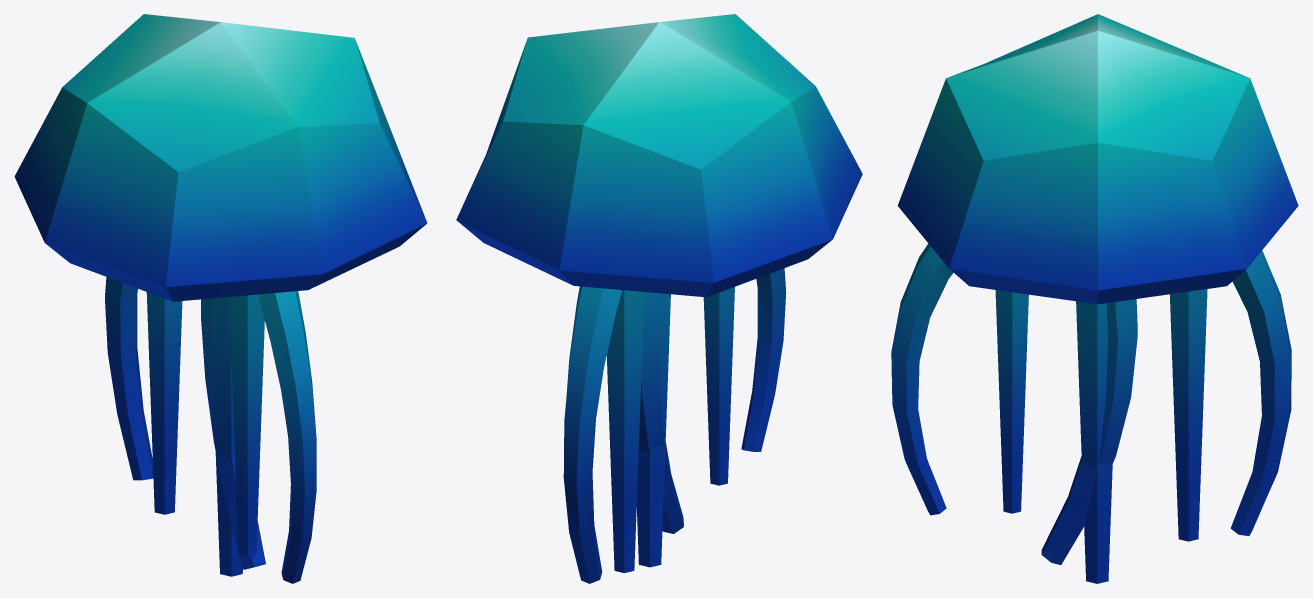
Rendered from Jellyfish 1.fbx.
3 renders of one model, left to right at view 1: azimuth 30°, elevation 25°; view 2: azimuth 150°, elevation 25°; view 3: azimuth 270°, elevation 25°, orthographic.
Visible parts, largest first — view 1: Head, pCylinder3 (×2), pCylinder2 (×2), pCylinder4 (×2); view 2: Head, pCylinder2 (×2), pCylinder3 (×2), pCylinder4 (×2); view 3: Head, pCylinder2 (×2), pCylinder4 (×2), pCylinder3 (×2).
Part boxes in pixels (x1=…): Head: x1=14, y1=14, x2=427, y2=301; pCylinder3 (×2): x1=229, y1=291, x2=316, y2=583; pCylinder2 (×2): x1=105, y1=277, x2=182, y2=514; pCylinder4 (×2): x1=201, y1=297, x2=265, y2=576; Head: x1=456, y1=14, x2=862, y2=297; pCylinder2 (×2): x1=563, y1=286, x2=644, y2=583; pCylinder3 (×2): x1=703, y1=268, x2=786, y2=485; pCylinder4 (×2): x1=636, y1=292, x2=683, y2=567; Head: x1=897, y1=14, x2=1298, y2=304; pCylinder2 (×2): x1=1170, y1=250, x2=1291, y2=541; pCylinder4 (×2): x1=1041, y1=299, x2=1137, y2=583; pCylinder3 (×2): x1=891, y1=243, x2=1028, y2=515.
Bounding box in the file's own units: 69.91 × 104 × 71.01.
1 material, 1 textured.
